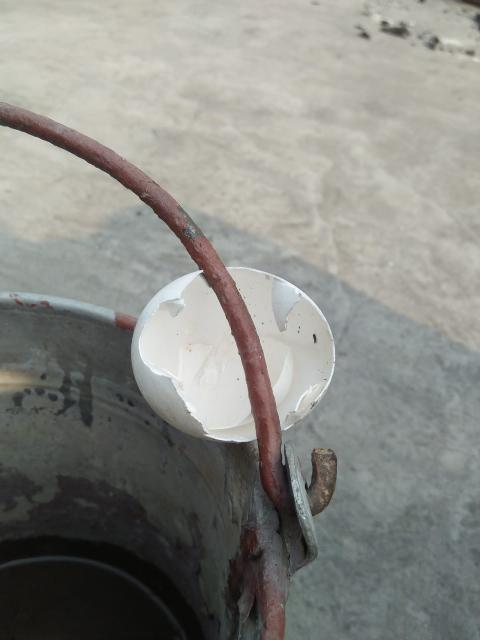Roto: (130, 265, 336, 444)
